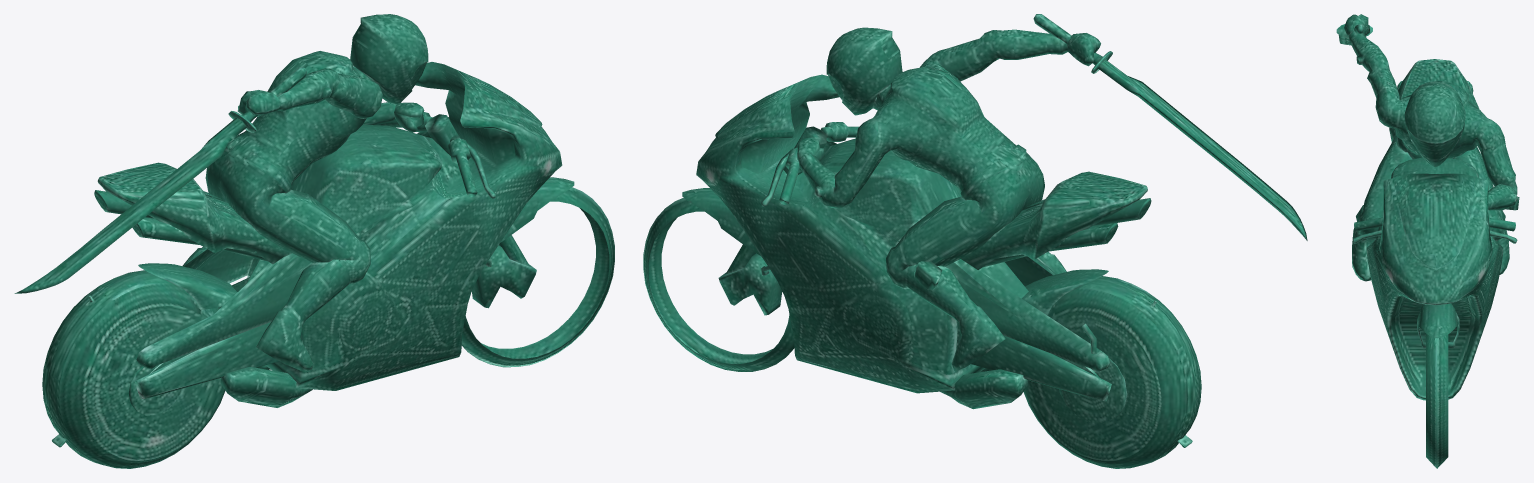
Rendered from cavalier_tripo.glb.
3 renders of one model, left to right at view 1: azimuth 30°, elevation 25°; view 2: azimuth 150°, elevation 25°; view 3: azimuth 270°, elevation 25°, orthographic. The views are drawn at different scales.
Visible parts, largest first — view 1: tripo_node_dee8a403-f537-442f-85b5-4574826d9bdb; view 2: tripo_node_dee8a403-f537-442f-85b5-4574826d9bdb; view 3: tripo_node_dee8a403-f537-442f-85b5-4574826d9bdb.
Part boxes in pixels (x1,y1,x2,y2): tripo_node_dee8a403-f537-442f-85b5-4574826d9bdb: (14,14,614,468); tripo_node_dee8a403-f537-442f-85b5-4574826d9bdb: (643,14,1307,468); tripo_node_dee8a403-f537-442f-85b5-4574826d9bdb: (1336,14,1519,468).
Size of the model in its own units: 0.9995 by 0.5952 by 0.3013.
1 material, 1 textured.
